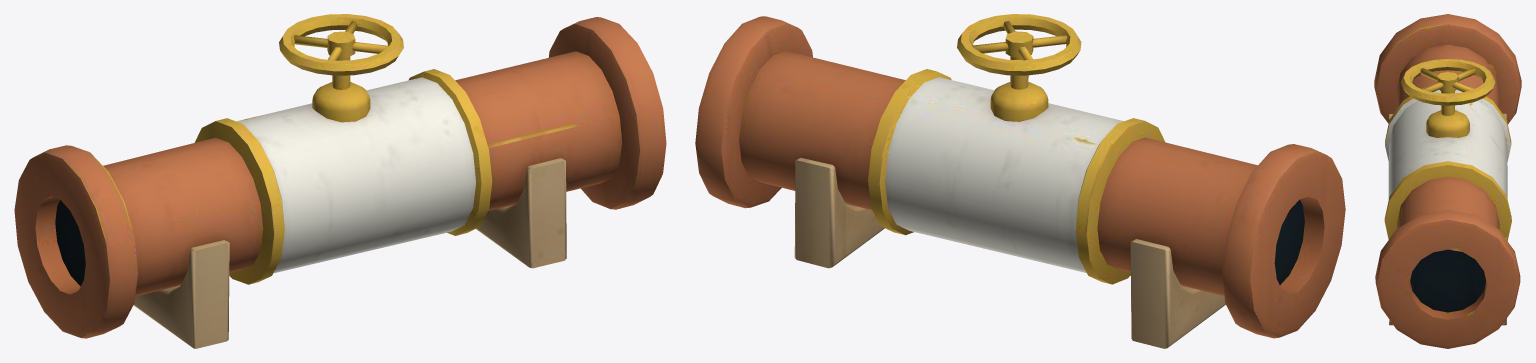
Rendered from copper-pipe.glb.
3 renders of one model, left to right at view 1: azimuth 30°, elevation 25°; view 2: azimuth 150°, elevation 25°; view 3: azimuth 270°, elevation 25°, orthographic. The views are drawn at different scales.
Parts seen in each view (by area): view 1: pipe, wheel; view 2: pipe, wheel; view 3: pipe, wheel.
Part boxes in pixels (bbox=[...]): pipe: bbox=[14, 17, 666, 348]; wheel: bbox=[279, 14, 403, 75]; pipe: bbox=[695, 16, 1345, 348]; wheel: bbox=[957, 14, 1081, 75]; pipe: bbox=[1374, 14, 1521, 348]; wheel: bbox=[1401, 59, 1495, 105].
Bounding box in the file's own units: 1 × 0.4093 × 0.3017.
5 materials, 5 textured.
